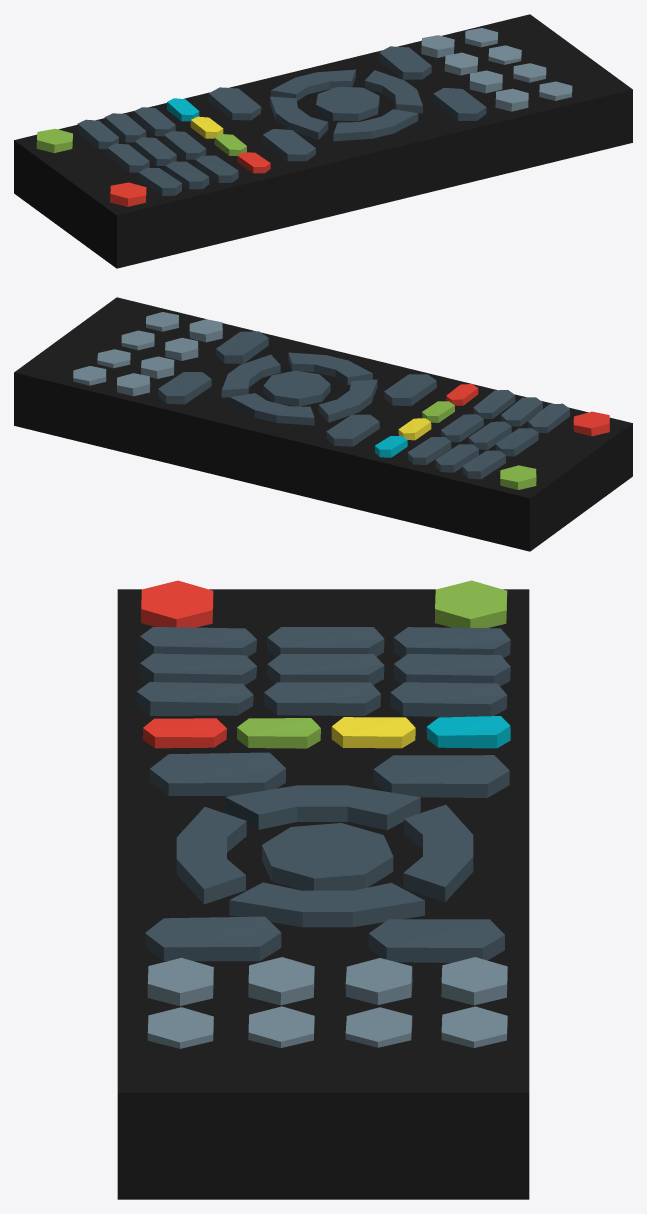
The model's file is Remote.glb.
The picture shows the model from 3 angles, top to bottom: view 1: azimuth 30°, elevation 25°; view 2: azimuth 150°, elevation 25°; view 3: azimuth 270°, elevation 25°; orthographic projection. The views are drawn at different scales.
Parts seen in each view (by area): view 1: group1999592679, group990673373, group155187883, group1981639585, group456129434, group128561982, group451507154, group1956385773, group82755036, group594652875, group2045069191, group1368909834 (+13 smaller); view 2: group1999592679, group990673373, group155187883, group1981639585, group456129434, group128561982, group1956385773, group451507154, group82755036, group594652875, group1368909834, group2045069191 (+13 smaller); view 3: group1999592679, group990673373, group1981639585, group155187883, group456129434, group128561982, group82755036, group594652875, group1368909834, group2045069191, group451507154, group1956385773 (+13 smaller).
Boxes of the visible parts, x1,y1,x2,y2 form: group1999592679: (14,14,632,268); group990673373: (379,46,486,120); group155187883: (77,119,181,195); group1981639585: (104,113,209,189); group456129434: (465,28,572,100); group128561982: (316,87,379,121); group451507154: (333,109,418,141); group1956385773: (271,69,355,100); group82755036: (270,96,328,139); group594652875: (364,70,422,113); group2045069191: (262,129,315,161); group1368909834: (208,87,261,120); group1999592679: (14,297,632,551); group990673373: (158,331,268,404); group155187883: (462,403,569,479); group1981639585: (435,397,542,472); group456129434: (73,312,178,385); group128561982: (263,370,330,406); group1956385773: (230,393,314,425); group451507154: (288,352,372,384); group82755036: (318,379,377,422); group594652875: (221,354,280,397); group1368909834: (326,414,379,446); group2045069191: (384,374,436,406); group1999592679: (117,589,529,1199); group990673373: (145,916,504,962); group1981639585: (139,653,510,686); group155187883: (139,627,510,657); group456129434: (147,1006,507,1048); group128561982: (262,823,393,890); group82755036: (225,785,420,830); group594652875: (229,882,424,927); group1368909834: (373,755,509,797); group2045069191: (149,752,285,795); group451507154: (176,807,246,904); group1956385773: (403,804,473,902).
Bounding box in the file's own units: 1.42 × 0.1629 × 0.49.
